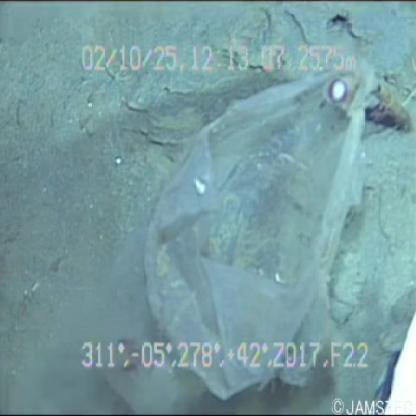Rác: (124, 38, 374, 408)
